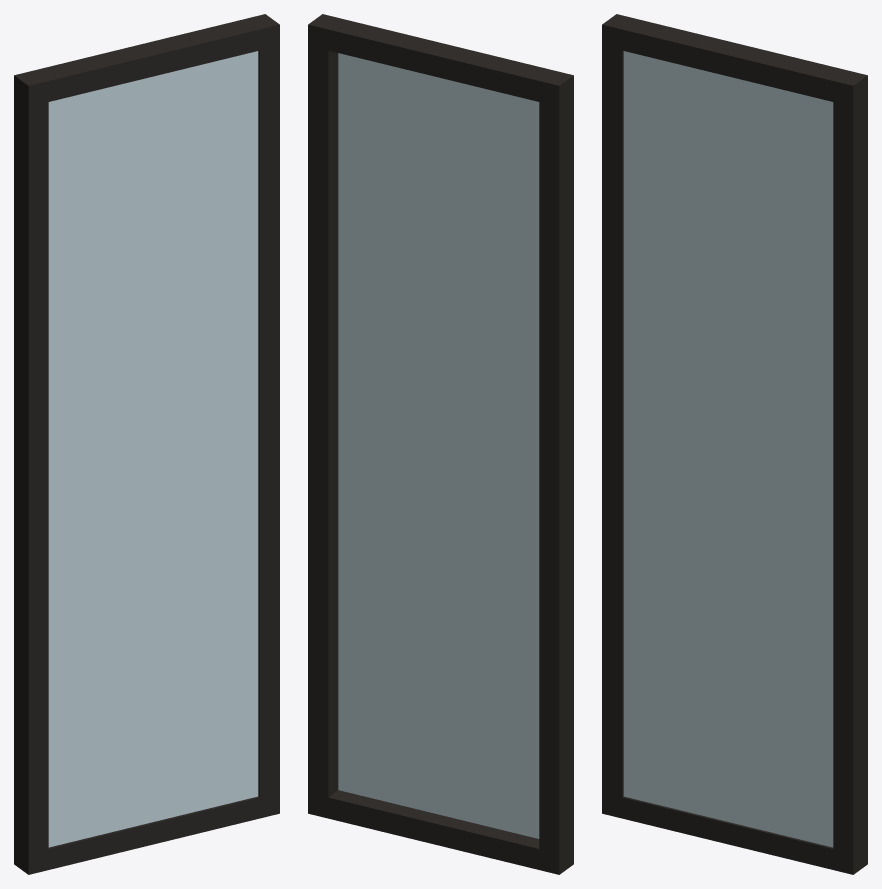
The model's file is mirror.glb.
3 renders of one model, left to right at view 1: azimuth 30°, elevation 25°; view 2: azimuth 150°, elevation 25°; view 3: azimuth 330°, elevation 25°, orthographic.
Parts seen in each view (by area): view 1: glass, frame-left, frame-right, frame-top, frame-bottom; view 2: glass, frame-left, frame-right, frame-top, frame-bottom; view 3: glass, frame-right, frame-left, frame-top, frame-bottom.
Boxes of the visible parts, bbox=[...] form: glass: bbox=[48, 51, 258, 847]; frame-left: bbox=[14, 96, 48, 853]; frame-right: bbox=[258, 45, 279, 797]; frame-top: bbox=[14, 14, 279, 106]; frame-bottom: bbox=[14, 792, 279, 874]; glass: bbox=[338, 53, 539, 838]; frame-left: bbox=[539, 96, 573, 853]; frame-right: bbox=[308, 45, 338, 797]; frame-top: bbox=[308, 14, 573, 106]; frame-bottom: bbox=[308, 790, 573, 874]; glass: bbox=[623, 51, 833, 847]; frame-right: bbox=[833, 96, 867, 853]; frame-left: bbox=[602, 45, 623, 797]; frame-top: bbox=[602, 14, 867, 106]; frame-bottom: bbox=[602, 792, 867, 874].
Bounding box in the file's own units: 0.5 × 1.5 × 0.05.
